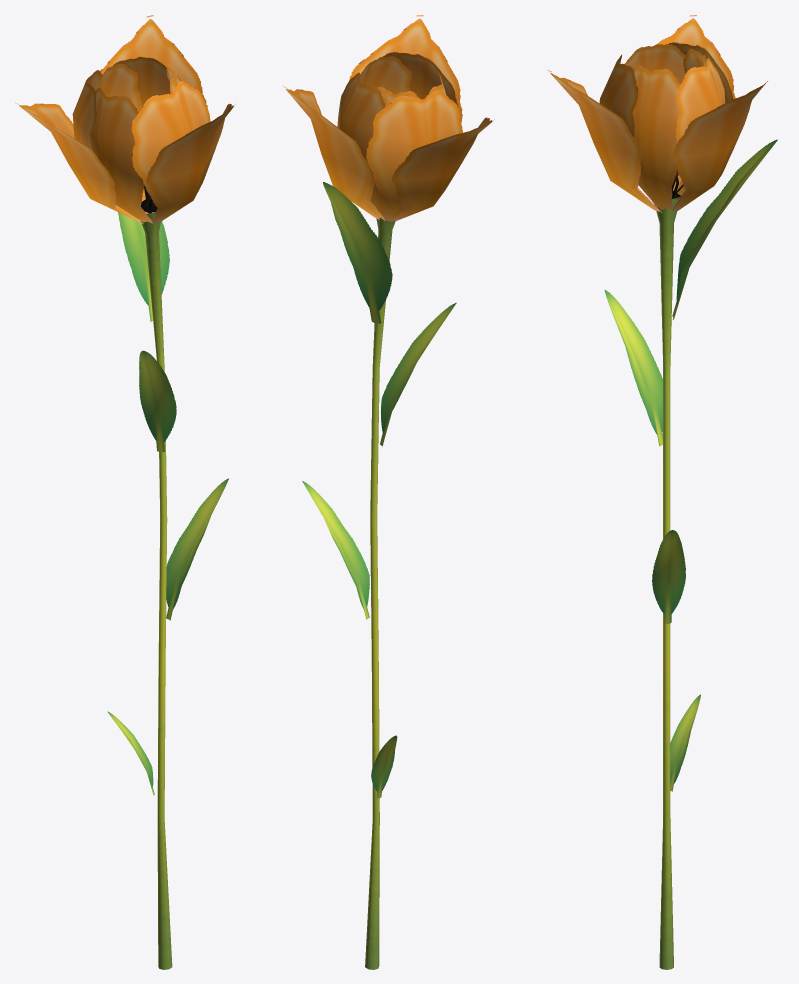
Rendered from ENV1110007.FBX.
3 views of the same model, side by side, from view 1: azimuth 30°, elevation 25°; view 2: azimuth 150°, elevation 25°; view 3: azimuth 270°, elevation 25° (orthographic).
Parts seen in each view (by area): view 1: smENV1110007; view 2: smENV1110007; view 3: smENV1110007.
Part boxes in pixels (box(x1,y1,x2,y2)): smENV1110007: box(15, 15, 235, 969); smENV1110007: box(283, 15, 494, 969); smENV1110007: box(547, 15, 777, 969).
Bounding box in the file's own units: 4.22 × 17.92 × 4.25.
1 material, 1 textured.
